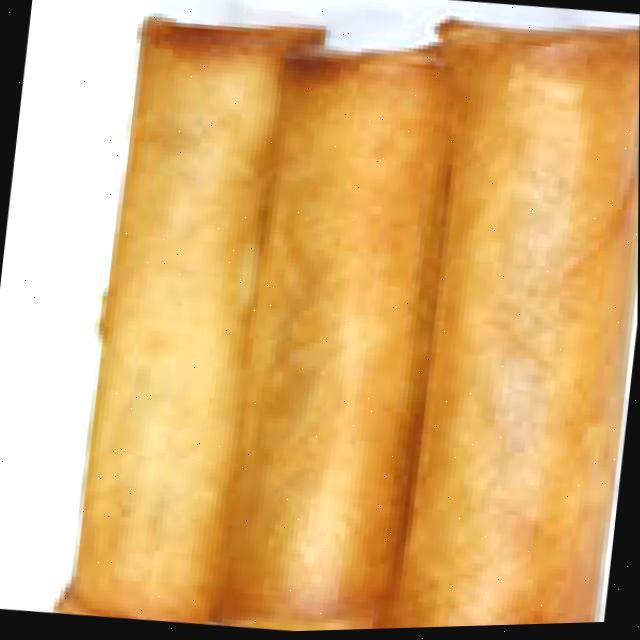鸡蛋料理: (30, 0, 640, 639)
